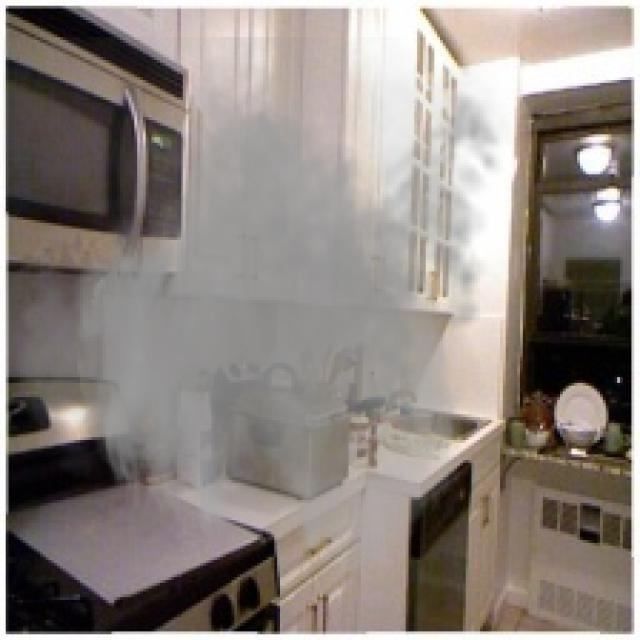Smoke: (2, 37, 518, 577)
